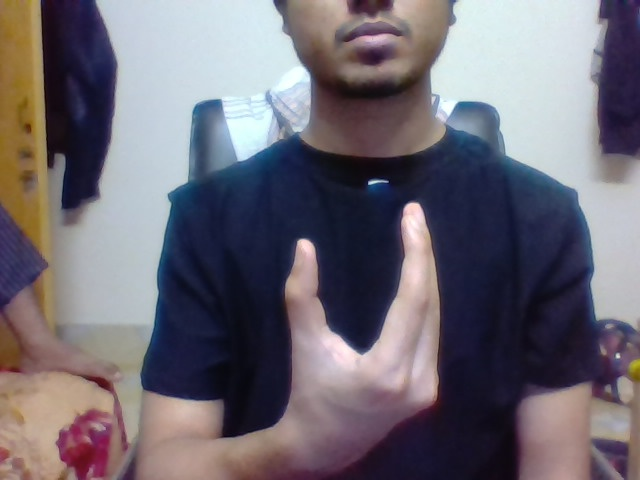U: (270, 193, 454, 379)
